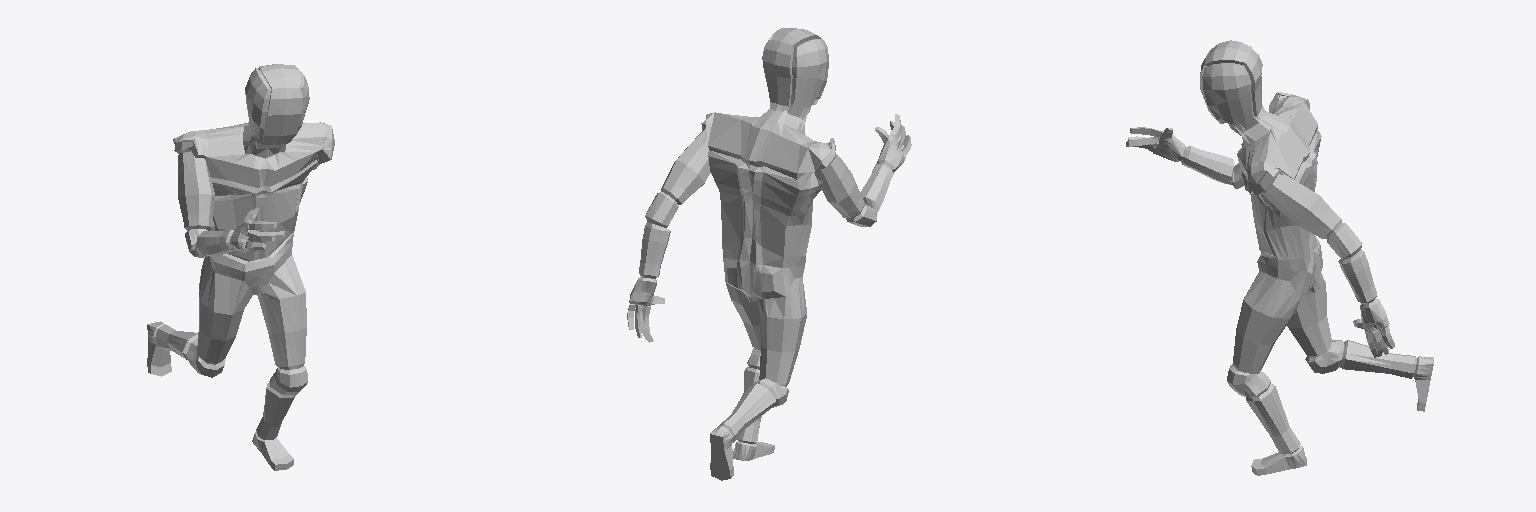
The model's file is GDW_Pyroboy.obj.
3 renders of one model, left to right at view 1: azimuth 30°, elevation 25°; view 2: azimuth 150°, elevation 25°; view 3: azimuth 270°, elevation 25°, orthographic.
Visible parts, largest first — view 1: GDW_Pyroboy; view 2: GDW_Pyroboy; view 3: GDW_Pyroboy.
Part boxes in pixels (x1,y1,x2,y2): GDW_Pyroboy: (147,64,334,470); GDW_Pyroboy: (627,28,911,480); GDW_Pyroboy: (1126,40,1433,475).
Size of the model in its own units: 4.42 by 10.02 by 6.74.